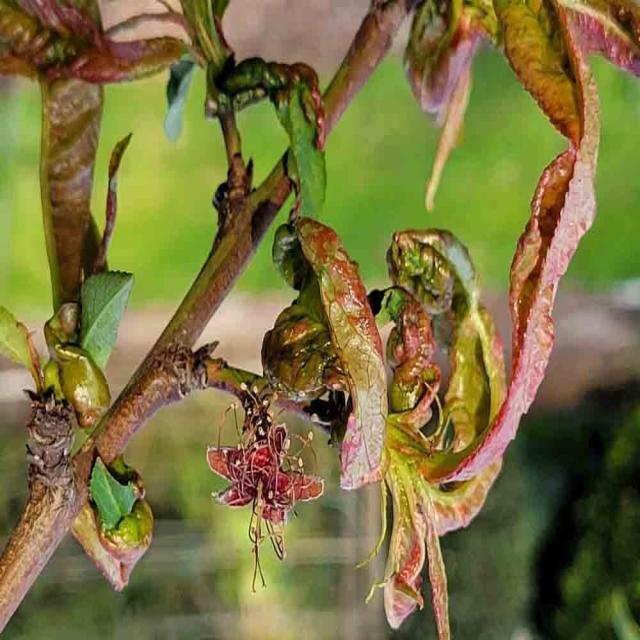peach_leaf_curl: (250, 201, 566, 614)
